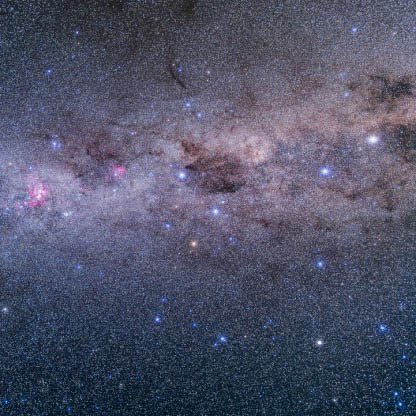Southern Cross: (205, 202, 225, 223), (159, 218, 179, 236), (173, 167, 191, 186), (184, 236, 204, 253)
